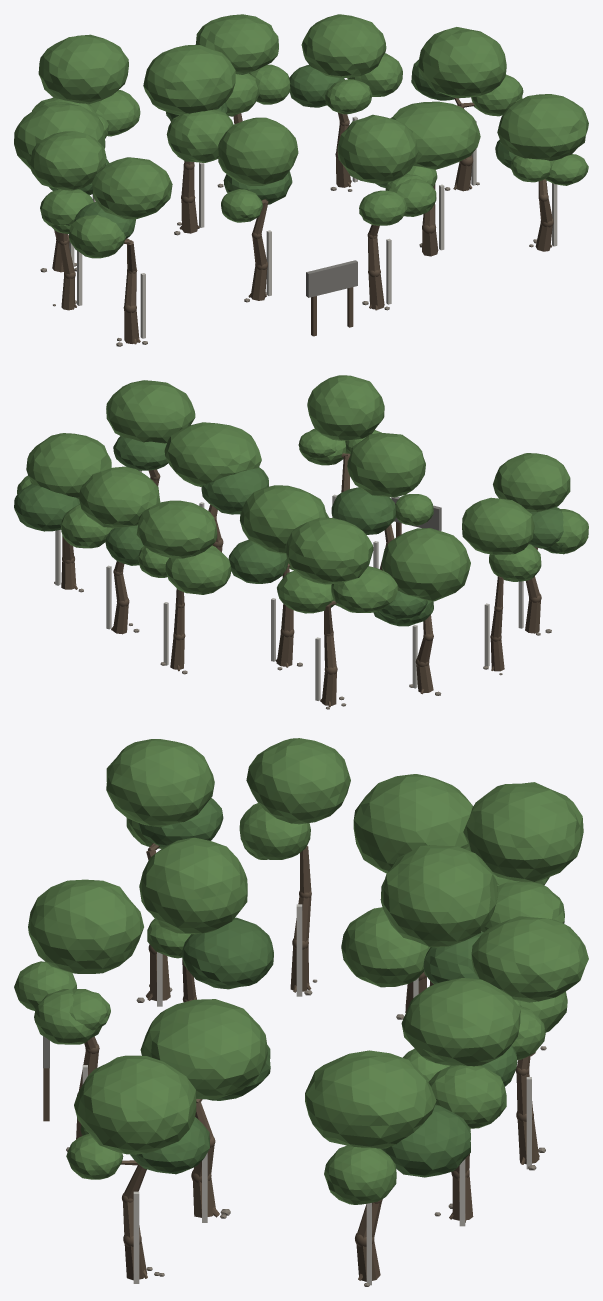
Rendered from new_forest_lvl3.glb.
3 views of the same model, one above another, from view 1: azimuth 30°, elevation 25°; view 2: azimuth 150°, elevation 25°; view 3: azimuth 270°, elevation 25° (orthographic). The views are drawn at different scales.
Parts seen in each view (by area): view 1: new_forest; view 2: new_forest; view 3: new_forest.
Boxes of the visible parts, x1,y1,x2,y2 form: new_forest: (14, 14, 588, 346); new_forest: (14, 375, 588, 709); new_forest: (14, 738, 588, 1286).
Bounding box in the file's own units: 1 × 0.3479 × 0.6846.
